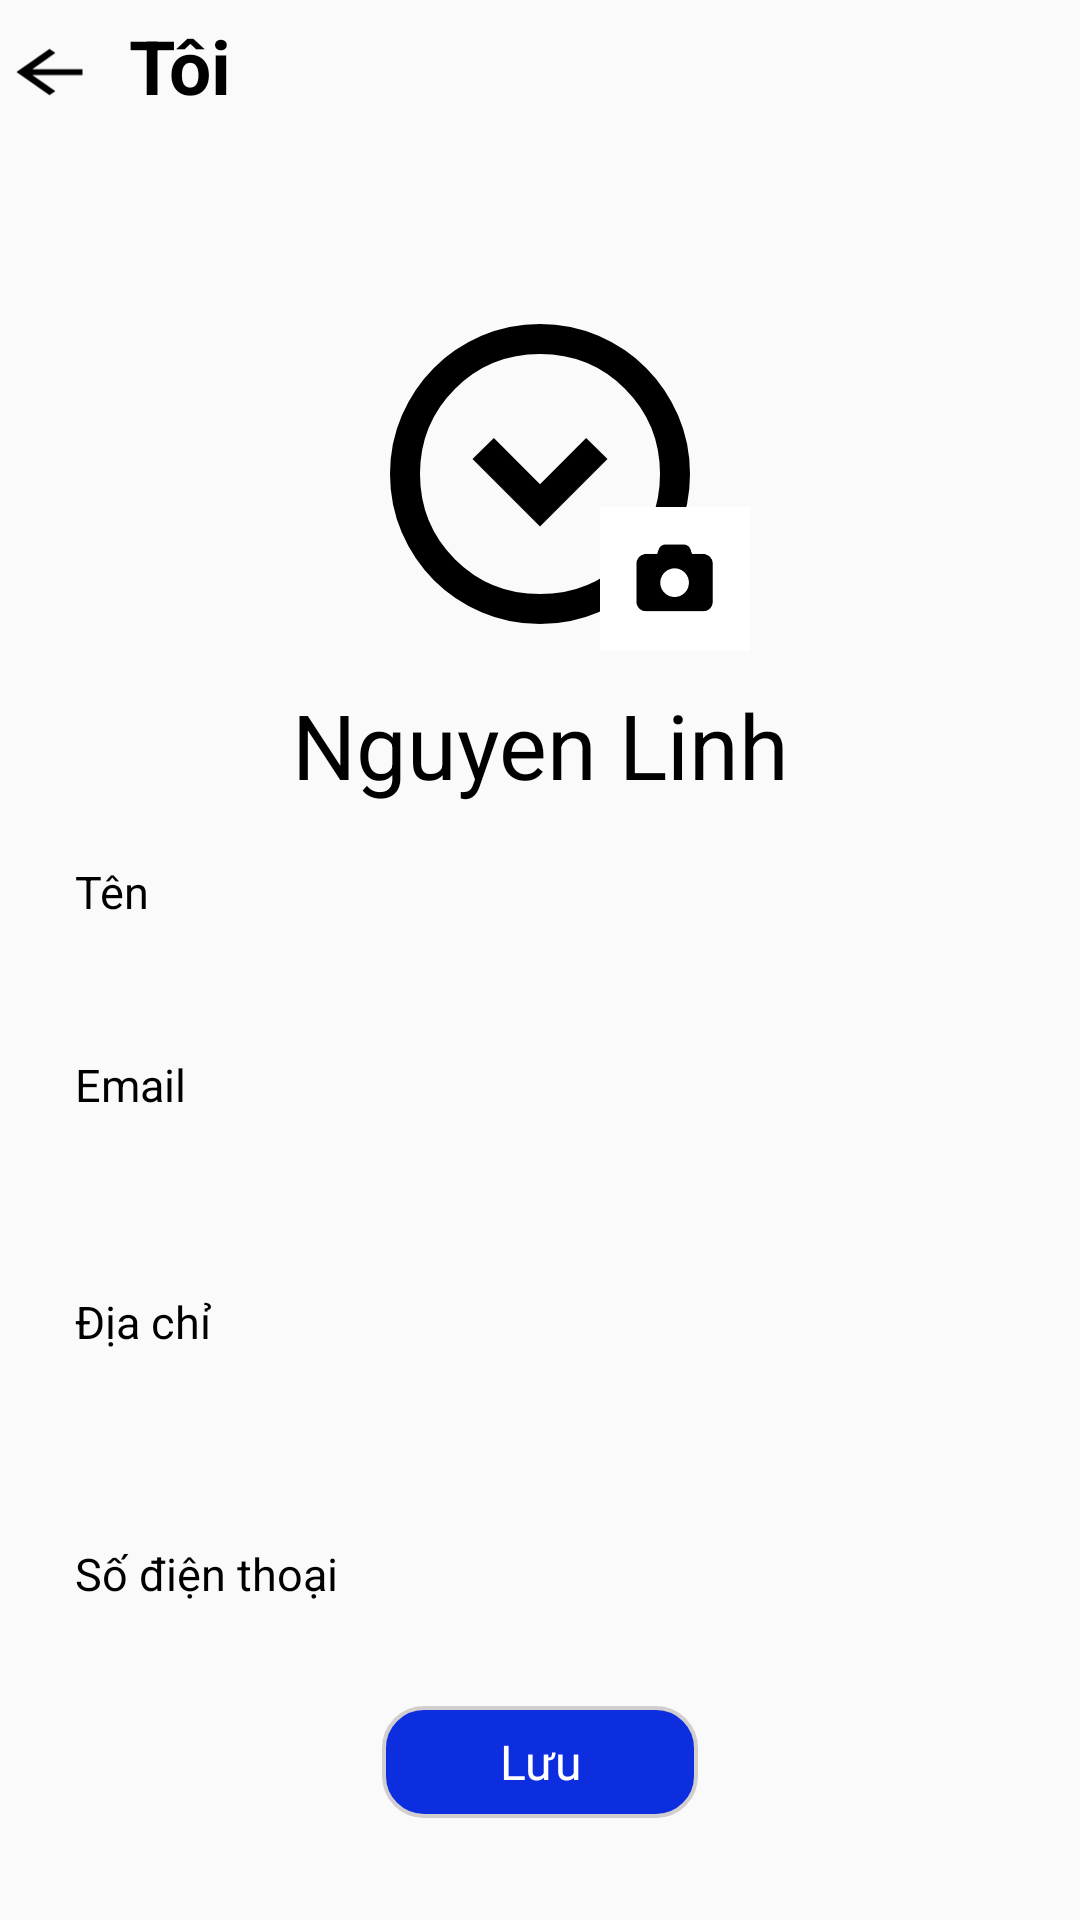

Named icons in this screenshot (1080x1920) and their bounding boxes, {"x1": x1, "y1": y1, "x2": x2, "y2": y2}:
arrow back: {"x1": 17, "y1": 48, "x2": 83, "y2": 96}
